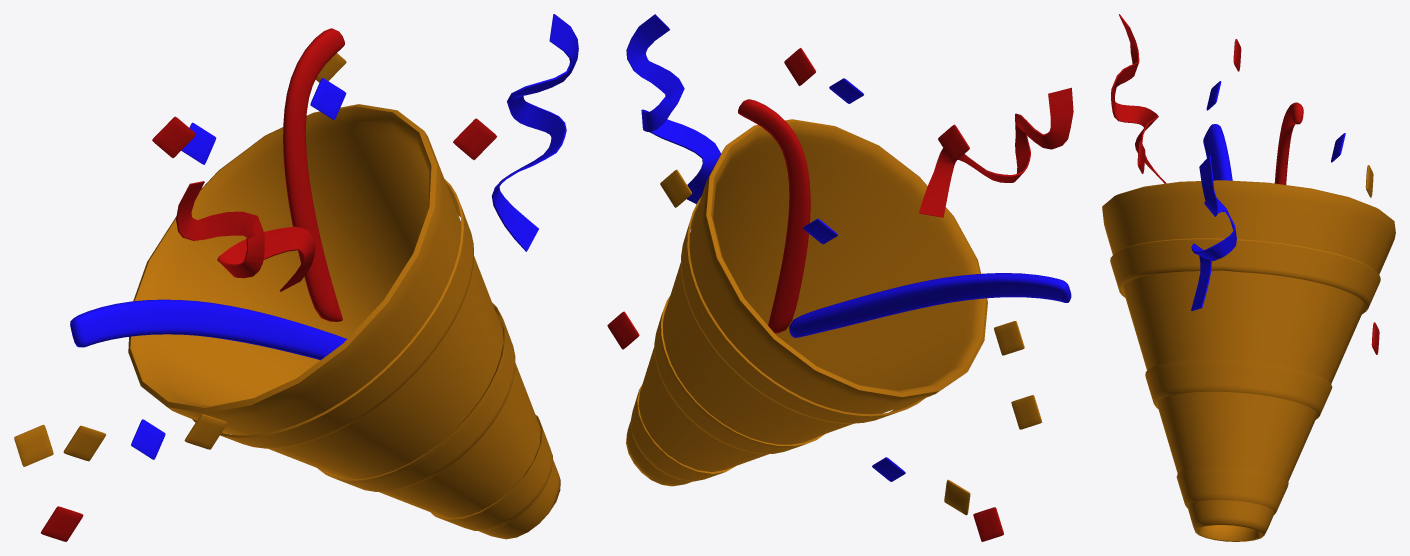
The model's file is party-pop.fbx.
The picture shows the model from 3 angles, left to right: view 1: azimuth 30°, elevation 25°; view 2: azimuth 150°, elevation 25°; view 3: azimuth 270°, elevation 25°; orthographic projection. The views are drawn at different scales.
Visible parts, largest first — view 1: P6, P5, P2, P3, P1, P007, P010, P014, P015, P013, P011, P012 (+3 smaller); view 2: P6, P5, P2, P3, P007, P1, P012, P013, P011, P017, P014, P015 (+2 smaller); view 3: P6, P5, P007, P1, P3, P2.
Part boxes in pixels (x1,y1,x2,y2): P6: (128, 104, 560, 539); P5: (192, 179, 552, 530); P2: (70, 299, 346, 360); P3: (283, 28, 344, 321); P1: (176, 181, 315, 291); P007: (491, 14, 578, 251); P010: (14, 425, 53, 466); P014: (152, 116, 196, 157); P015: (453, 118, 496, 159); P013: (184, 414, 227, 449); P011: (63, 425, 106, 461); P012: (41, 506, 83, 541); P6: (626, 119, 987, 486); P5: (630, 196, 925, 481); P2: (789, 273, 1071, 337); P3: (738, 99, 810, 333); P007: (626, 14, 721, 203); P1: (919, 87, 1073, 217); P012: (973, 507, 1003, 541); P013: (994, 321, 1024, 355); P011: (1011, 395, 1042, 429); P017: (607, 311, 639, 349); P014: (938, 124, 969, 162); P015: (784, 48, 815, 85); P6: (1102, 180, 1395, 541); P5: (1110, 238, 1380, 514); P007: (1191, 155, 1236, 310); P1: (1111, 14, 1166, 183); P3: (1274, 102, 1303, 184); P2: (1203, 124, 1232, 180).
Bounding box in the file's own units: 18.24 × 17.81 × 11.74.
